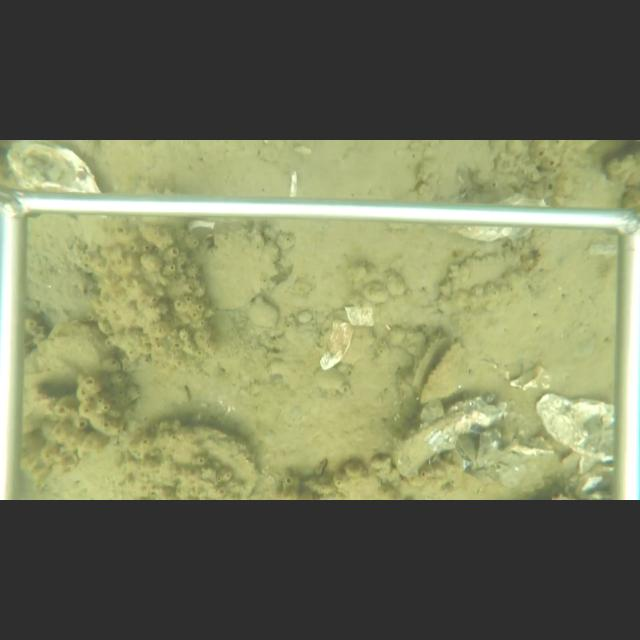Oyster-Closed: (390, 394, 505, 482), (196, 234, 283, 314), (533, 390, 616, 461)
Oyster-Open: (409, 334, 472, 406), (452, 434, 478, 464)
